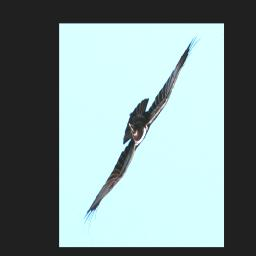Crow: (69, 31, 214, 239)
